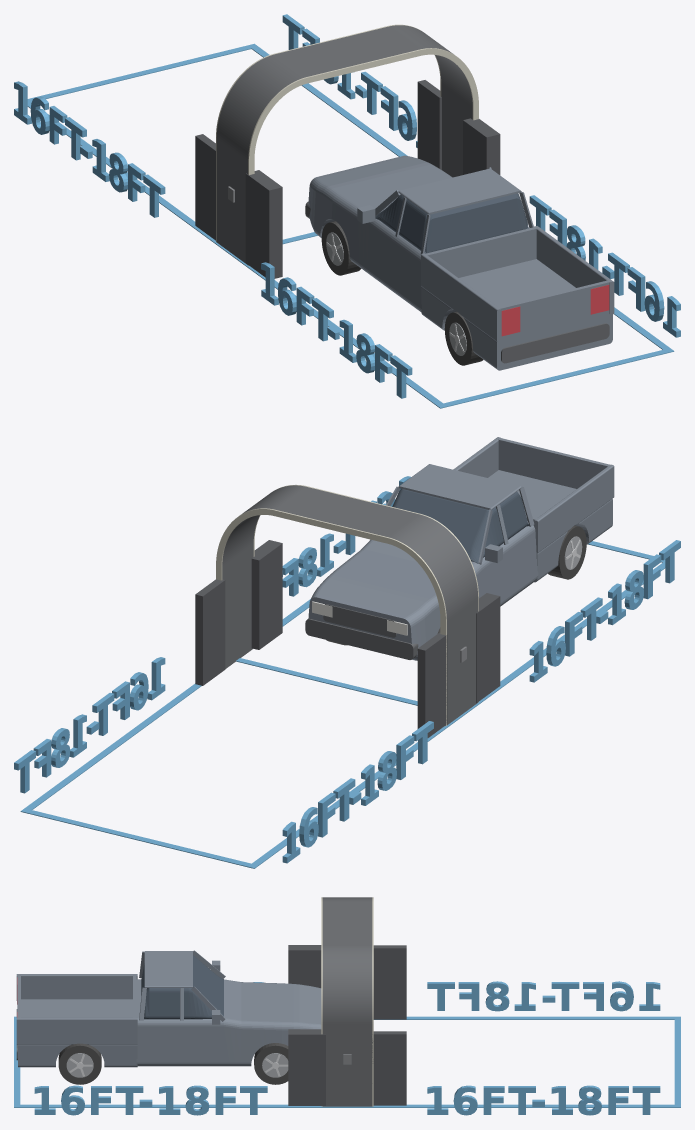
The model's file is colibri-xl-truck.glb.
3 views of the same model, one above another, from view 1: azimuth 30°, elevation 25°; view 2: azimuth 150°, elevation 25°; view 3: azimuth 270°, elevation 25° (orthographic). The views are drawn at different scales.
Parts seen in each view (by area): view 1: vehicle_body, arch_shell, vehicle_glass, label_near_end_other_side, label_far_end_other_side, label_near_end, wing_2, vehicle_bed_front, vehicle_tailgate, vehicle_roof, vehicle_bed_wall_l, label_far_end (+12 smaller); view 2: arch_shell, vehicle_body, label_far_end_other_side, label_near_end_other_side, label_far_end, vehicle_glass, vehicle_tailgate, wing_1, vehicle_roof, wing_3, vehicle_bed_wall_l, wing_4 (+11 smaller); view 3: vehicle_body, arch_shell, label_far_end, label_near_end, label_far_end_other_side, vehicle_bed_wall_r, vehicle_bed_wall_l, wing_1, vehicle_glass, wing_3, wing_4, vehicle_roof (+10 smaller).
Boxes of the visible parts, x1,y1,x2,y2 form: vehicle_body: (308, 155, 612, 370); arch_shell: (216, 25, 472, 264); vehicle_glass: (375, 193, 528, 253); label_near_end_other_side: (261, 262, 412, 398); label_far_end_other_side: (14, 81, 165, 217); label_near_end: (529, 195, 680, 337); wing_2: (245, 170, 282, 278); vehicle_bed_front: (421, 226, 539, 287); vehicle_tailgate: (494, 280, 612, 341); vehicle_roof: (398, 168, 521, 214); vehicle_bed_wall_l: (421, 253, 501, 342); label_far_end: (282, 14, 417, 147); arch_shell: (222, 485, 478, 725); vehicle_body: (308, 470, 612, 660); label_far_end_other_side: (282, 721, 433, 863); label_near_end_other_side: (529, 540, 680, 682); label_far_end: (14, 657, 165, 793); vehicle_glass: (392, 488, 528, 563); vehicle_tailgate: (496, 437, 613, 498); wing_1: (251, 540, 282, 649); vehicle_roof: (398, 464, 521, 509); wing_3: (195, 579, 225, 685); vehicle_bed_wall_l: (533, 464, 614, 553); wing_4: (417, 632, 447, 737); vehicle_body: (18, 979, 321, 1067); arch_shell: (322, 897, 372, 1106); label_far_end: (427, 1085, 660, 1115); label_near_end: (34, 1085, 267, 1115); label_far_end_other_side: (427, 981, 660, 1011); vehicle_bed_wall_r: (16, 1017, 137, 1044); vehicle_bed_wall_l: (16, 974, 137, 1000); wing_1: (288, 1029, 325, 1105); vehicle_glass: (141, 955, 223, 1019); wing_3: (371, 1031, 406, 1105); wing_4: (373, 945, 406, 1019); vehicle_roof: (144, 951, 192, 987).
Size of the model in its own units: 4.73 by 2.89 by 12.6.
